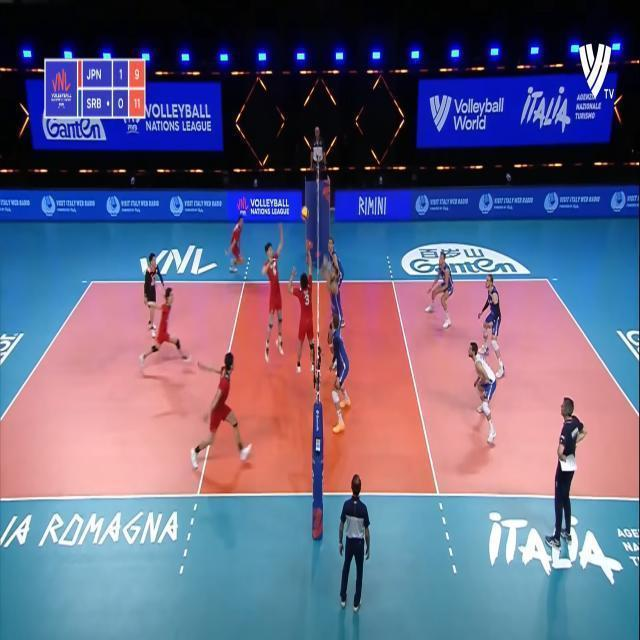volleyball: (300, 205, 310, 218)
